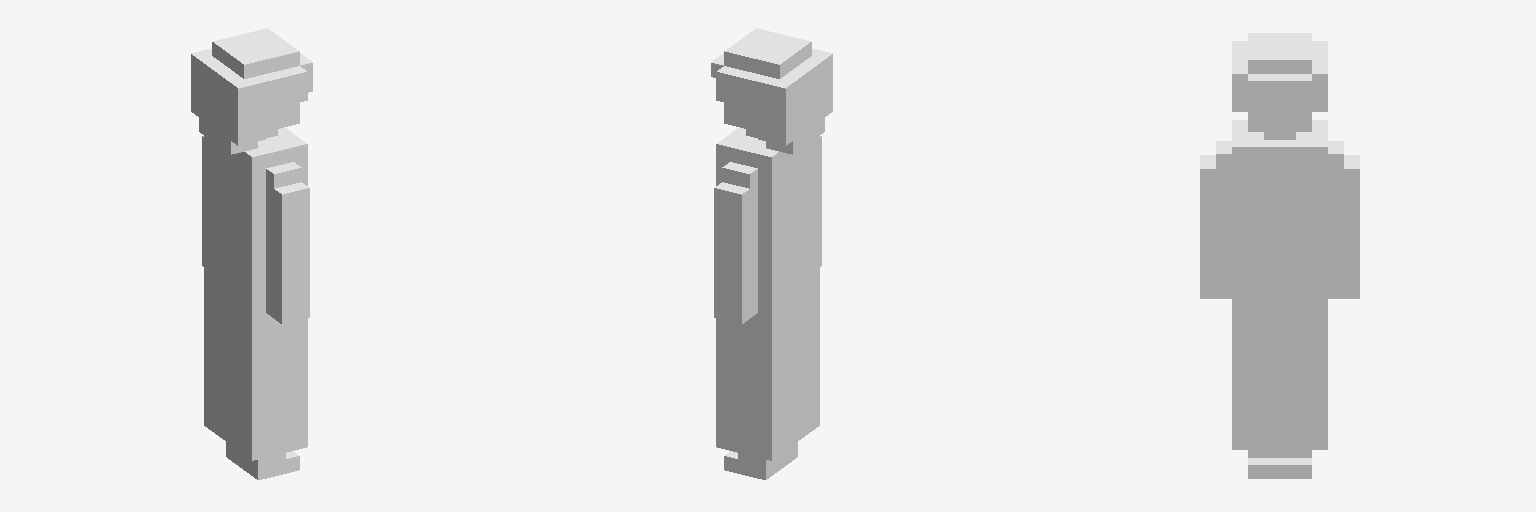
The model's file is LD_person_lady.obj.
The picture shows the model from 3 angles: view 1: azimuth 30°, elevation 25°; view 2: azimuth 150°, elevation 25°; view 3: azimuth 270°, elevation 25°; orthographic projection.
Parts seen in each view (by area): view 1: LD_person_lady; view 2: LD_person_lady; view 3: LD_person_lady.
Part boxes in pixels (x1,y1,x2,y2): LD_person_lady: (191,28,312,479); LD_person_lady: (711,28,832,479); LD_person_lady: (1200,33,1359,478).
Size of the model in its own units: 6 by 29 by 10.